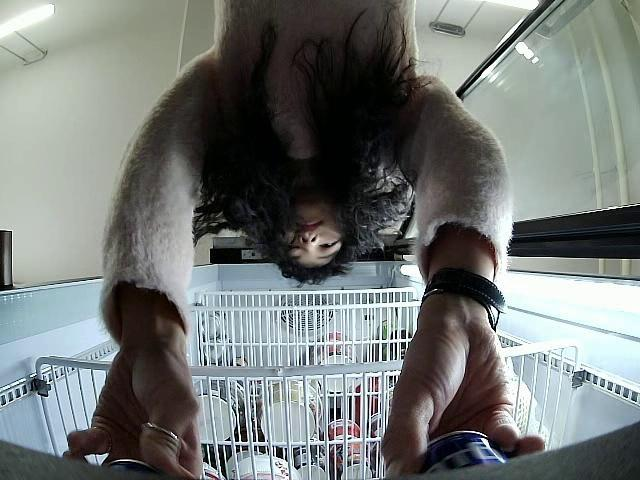16_hot6: (412, 430, 512, 480)
